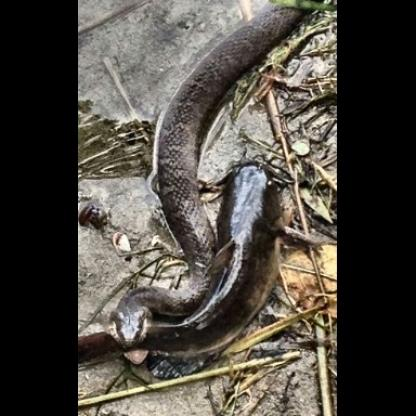Snake: (85, 80, 224, 367)
